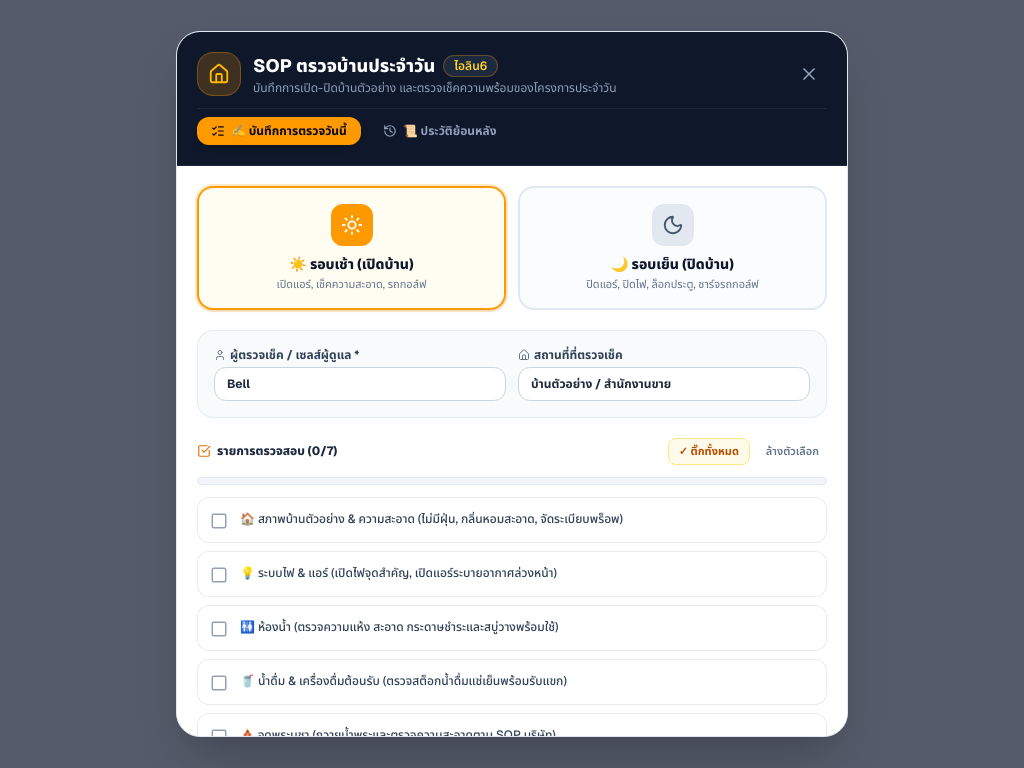
DailyHouseInspectionModal › allows switching to evening mode and selecting all items
This screenshot has width=1024, height=768.
// Switch to evening
What coordinates should you click on to do the following:
click the text "🌙 รอบเย็น (ปิดบ้าน)"
I would click on:
 (672, 264)
Its box is [611,255,734,273].
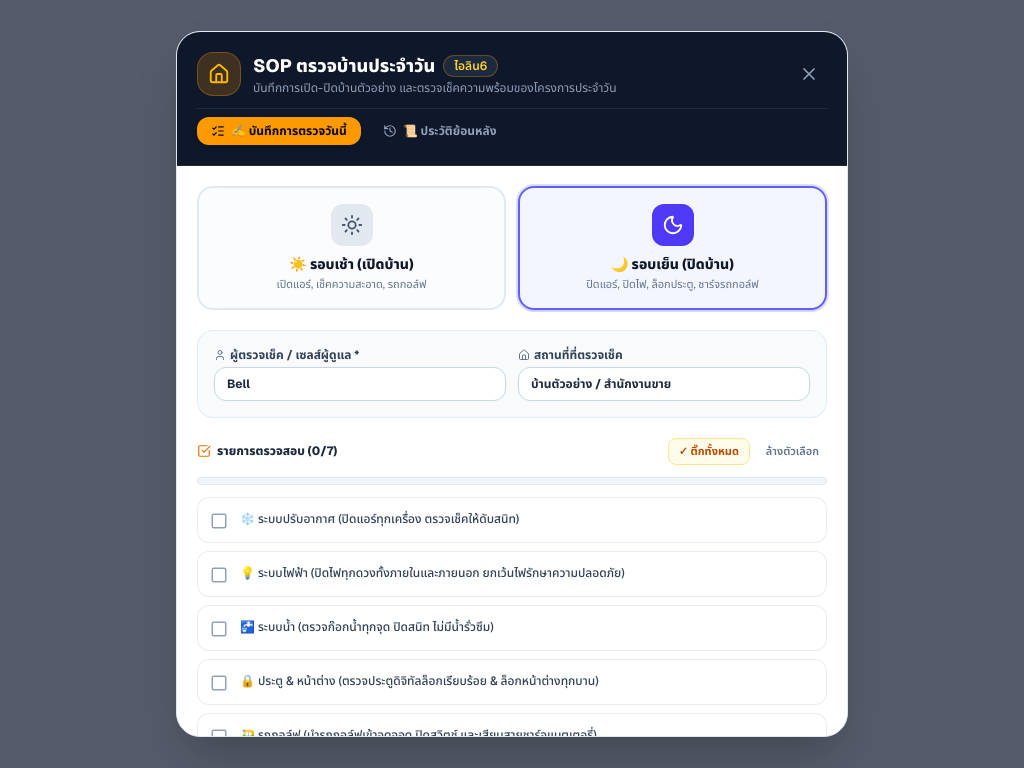
expect the text "❄️ ระบบปรับอากาศ (ปิดแอร์ทุกเครื่อง ตรวจเช็คให้ดับสนิท)" is shown: met, box [240,510,519,529]
expect the text "ประตูดิจิทัล" is shown: met, box [240,673,599,689]
// Click "ติ๊กทั้งหมด"
What coordinates should you click on to do the following:
click the button "✓ ติ๊กทั้งหมด"
I would click on:
 (709, 451)
Its box is [668,438,750,465].
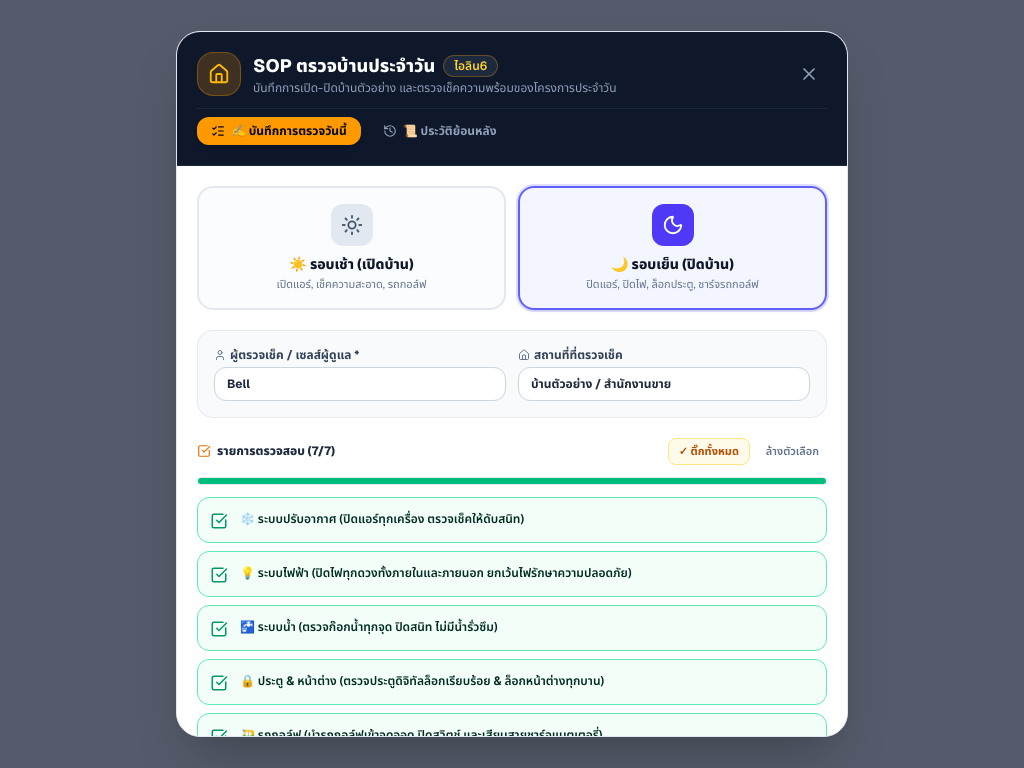
expect the text "รายการตรวจสอบ (7/7)" is shown: met, box [197,444,335,460]
